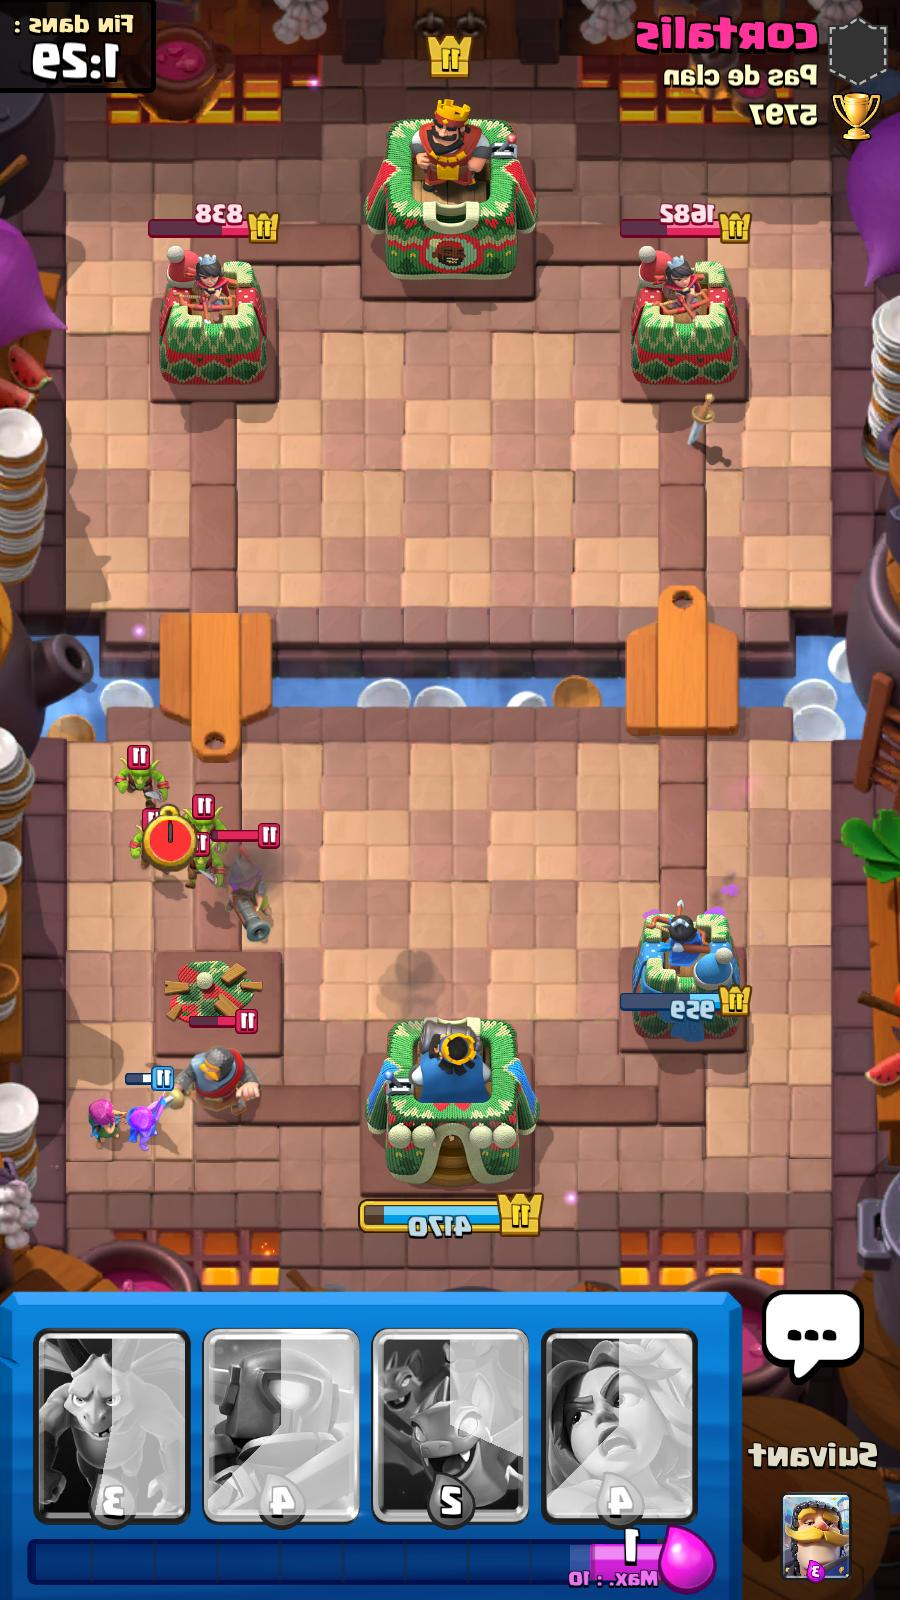archere: (122, 1067, 179, 1151), (84, 1095, 130, 1147)
chevalier: (157, 1008, 262, 1123)
gobelin: (110, 740, 173, 812), (127, 808, 176, 881), (178, 827, 224, 898), (180, 793, 227, 858)
mousquetaire: (210, 822, 284, 941)
